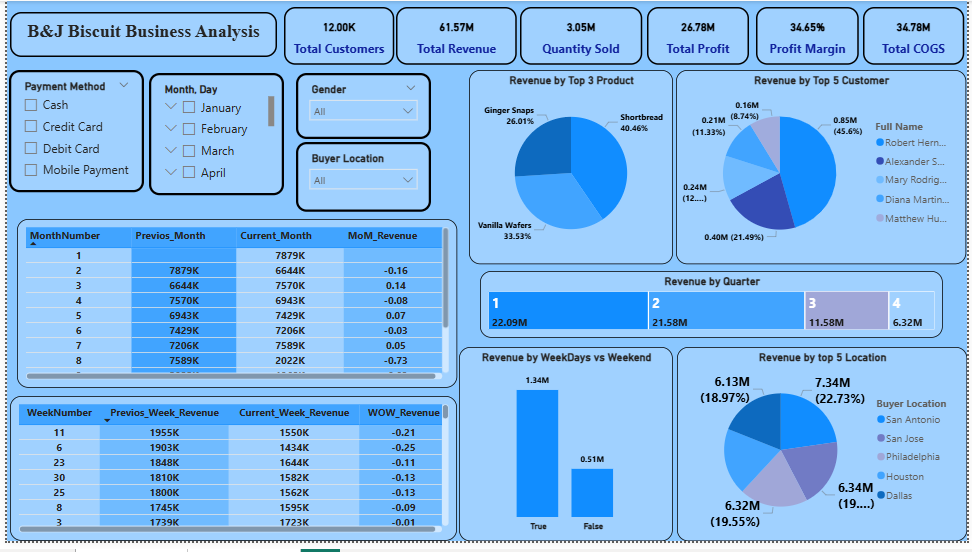

The page's visual inventory and layout, read from the dashboard file:
{"tool":"powerbi","page":{"name":"Dashboard02","canvas":[1280,720],"ordinal":1},"visuals":[{"type":"pieChart","title":"Revenue by Top 5 Customer","fields":{"Category":["CustomerDetail.Full Name"],"Y":["CustomerDetail.Revenue"]},"box":[891.6,92,386.7,258.7],"z":0},{"type":"card","fields":{"Values":["CustomerDetail.Full Name"]},"box":[369.3,8,146.7,77.3],"z":1000},{"type":"pieChart","title":"Revenue by top 5 Location","fields":{"Category":["CustomerDetail.Buyer Location"],"Y":["CustomerDetail.Revenue"]},"box":[893.3,461.3,386.7,258.7],"z":2000},{"type":"card","fields":{"Values":["CustomerDetail.Profit"]},"box":[853.3,8,136,77.3],"z":3000},{"type":"card","fields":{"Values":["CustomerDetail.Revenue"]},"box":[518.7,8,161.3,77.3],"z":4000},{"type":"card","fields":{"Values":["CustomerDetail.Quantity Purchased"]},"box":[684,8,162.7,77.3],"z":5000},{"type":"card","fields":{"Values":["CustomerDetail.COGS"]},"box":[1141.3,8,134.7,77.3],"z":6000},{"type":"card","fields":{"Values":["CustomerDetail.ProfitMargin"]},"box":[998.7,8,137.3,77.3],"z":7000},{"type":"slicer","fields":{"Values":["CustomerDetail.Buyer Location"]},"box":[385.3,188,180,93.3],"z":8000},{"type":"slicer","fields":{"Values":["CustomerDetail.Payment Method"]},"box":[2.7,92,180,162.7],"z":9000},{"type":"pieChart","title":"Revenue by Top 3 Product","fields":{"Category":["Products.Biscuit Brand"],"Y":["CustomerDetail.Revenue"]},"box":[616,92,272,258.7],"z":11000},{"type":"textbox","box":[4,14.7,356,60],"z":12000},{"type":"treemap","title":"Revenue by Quarter","fields":{"Group":["CustomerDetail.Quarter"],"Values":["CustomerDetail.Revenue"]},"box":[630.7,360,617.3,89.3],"z":13000},{"type":"tableEx","fields":{"Values":["CustomerDetail.MonthNumber","CustomerDetail.Previos_Month_Revenue","CustomerDetail.Current_Month_Revenue","CustomerDetail.MoM_Revenue"]},"box":[13.3,290.7,586.7,225.3],"z":14000},{"type":"tableEx","fields":{"Values":["CustomerDetail.WeekNumber","CustomerDetail.Previos_Week_Revenue","CustomerDetail.Current_Week_Revenue","CustomerDetail.WOW_Revenue"]},"box":[4,526.7,596,193.3],"z":15000},{"type":"clusteredColumnChart","title":"Revenue by WeekDays vs  Weekend","fields":{"Y":["CustomerDetail.Revenue"],"Category":["CustomerDetail.IsWeekend"]},"box":[602.7,461.3,285.3,258.7],"z":15001},{"type":"slicer","fields":{"Values":["CustomerDetail.Gender"]},"box":[385.3,96,180,88],"z":15002},{"type":"slicer","fields":{"Values":["CustomerDetail.Transaction Date.Variation.Date Hierarchy.Month","CustomerDetail.Transaction Date.Variation.Date Hierarchy.Day"]},"box":[189.3,96,180,162.7],"z":15003}]}

Visuals, with their boxes in screenshot pixels (x1, y1, x2, y2), scaled from the page's 1280x720 canvas onto the 972x552 screenshot:
"Revenue by Top 5 Customer" pieChart: Rect(677, 71, 971, 269)
card - CustomerDetail.Full Name: Rect(280, 6, 392, 65)
"Revenue by top 5 Location" pieChart: Rect(678, 354, 971, 551)
card - CustomerDetail.Profit: Rect(648, 6, 751, 65)
card - CustomerDetail.Revenue: Rect(394, 6, 516, 65)
card - CustomerDetail.Quantity Purchased: Rect(519, 6, 643, 65)
card - CustomerDetail.COGS: Rect(867, 6, 969, 65)
card - CustomerDetail.ProfitMargin: Rect(758, 6, 863, 65)
slicer - CustomerDetail.Buyer Location: Rect(293, 144, 429, 216)
slicer - CustomerDetail.Payment Method: Rect(2, 71, 139, 195)
"Revenue by Top 3 Product" pieChart: Rect(468, 71, 674, 269)
textbox: Rect(3, 11, 273, 57)
"Revenue by Quarter" treemap: Rect(479, 276, 948, 344)
tableEx - CustomerDetail.MonthNumber x CustomerDetail.Previos_Month_Revenue: Rect(10, 223, 456, 396)
tableEx - CustomerDetail.WeekNumber x CustomerDetail.Previos_Week_Revenue: Rect(3, 404, 456, 551)
"Revenue by WeekDays vs  Weekend" clusteredColumnChart: Rect(458, 354, 674, 551)
slicer - CustomerDetail.Gender: Rect(293, 74, 429, 141)
slicer - CustomerDetail.Transaction Date.Variation.Date Hierarchy.Month x CustomerDetail.Transaction Date.Variation.Date Hierarchy.Day: Rect(144, 74, 280, 198)
